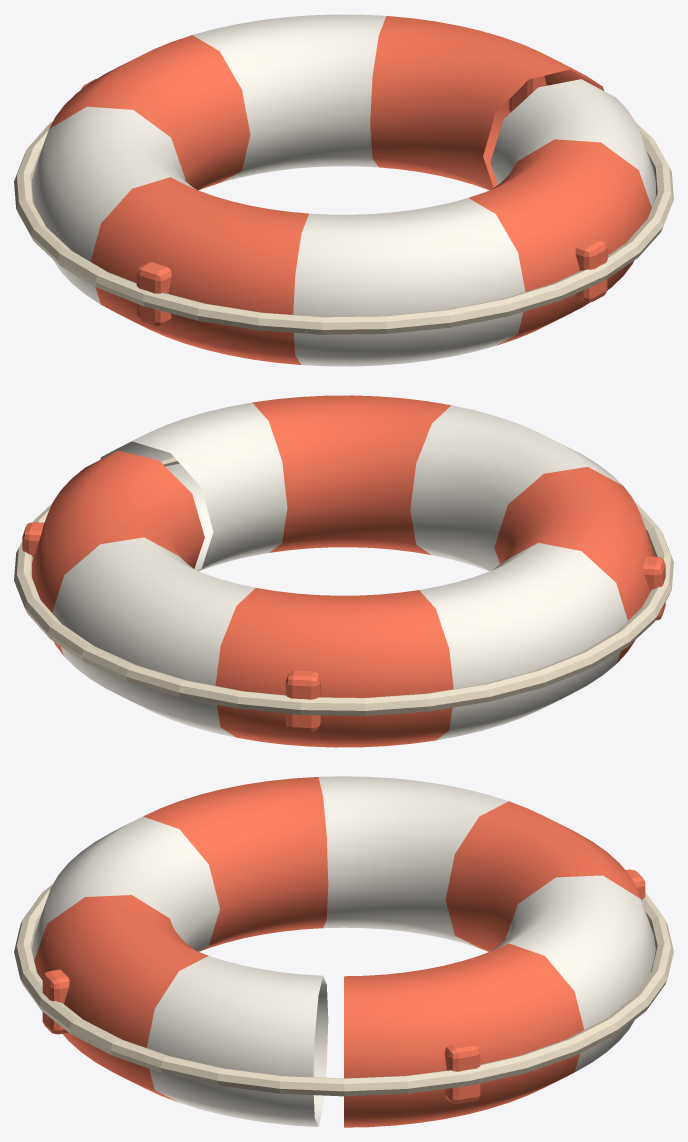
File: swim_ring.glb
3 renders of one model, top to bottom at view 1: azimuth 30°, elevation 25°; view 2: azimuth 150°, elevation 25°; view 3: azimuth 270°, elevation 25°, orthographic.
Parts seen in each view (by area): view 1: seg5, seg4, seg0, seg1, seg6, rope, seg2, seg3, seg7, clip2, clip3, clip0; view 2: seg2, seg3, seg6, seg1, seg5, seg7, rope, seg0, seg4, clip1, clip2, clip0; view 3: seg0, seg7, seg3, seg4, seg6, rope, seg1, seg2, seg5, clip0, clip3.
Part boxes in pixels (<box>): seg5: <box>293,198,525,366</box>; seg4: <box>90,177,308,364</box>; seg0: <box>370,16,603,190</box>; seg1: <box>192,14,386,182</box>; seg6: <box>469,139,651,345</box>; rope: <box>14,121,673,334</box>; seg2: <box>49,35,250,190</box>; seg3: <box>32,106,196,304</box>; seg7: <box>490,79,655,207</box>; clip2: <box>136,262,171,326</box>; clip3: <box>575,237,607,302</box>; clip0: <box>509,76,546,112</box>; seg2: <box>215,588,453,747</box>; seg3: <box>419,543,627,740</box>; seg6: <box>252,395,450,554</box>; seg1: <box>52,537,255,737</box>; seg5: <box>410,405,622,571</box>; seg7: <box>100,402,287,571</box>; rope: <box>14,457,673,715</box>; seg0: <box>32,450,204,655</box>; seg4: <box>494,467,654,663</box>; clip1: <box>285,670,321,731</box>; clip2: <box>643,556,665,620</box>; clip0: <box>22,522,44,557</box>; seg0: <box>344,943,584,1127</box>; seg7: <box>147,956,328,1126</box>; seg3: <box>318,776,508,947</box>; seg4: <box>143,777,328,951</box>; seg6: <box>34,895,208,1102</box>; rope: <box>14,884,673,1096</box>; seg1: <box>492,875,655,1071</box>; seg2: <box>445,801,649,951</box>; seg5: <box>32,816,219,960</box>; clip0: <box>444,1041,480,1103</box>; clip3: <box>42,969,69,1034</box>.
Size of the model in its own units: 1.73 by 0.3804 by 1.73.
